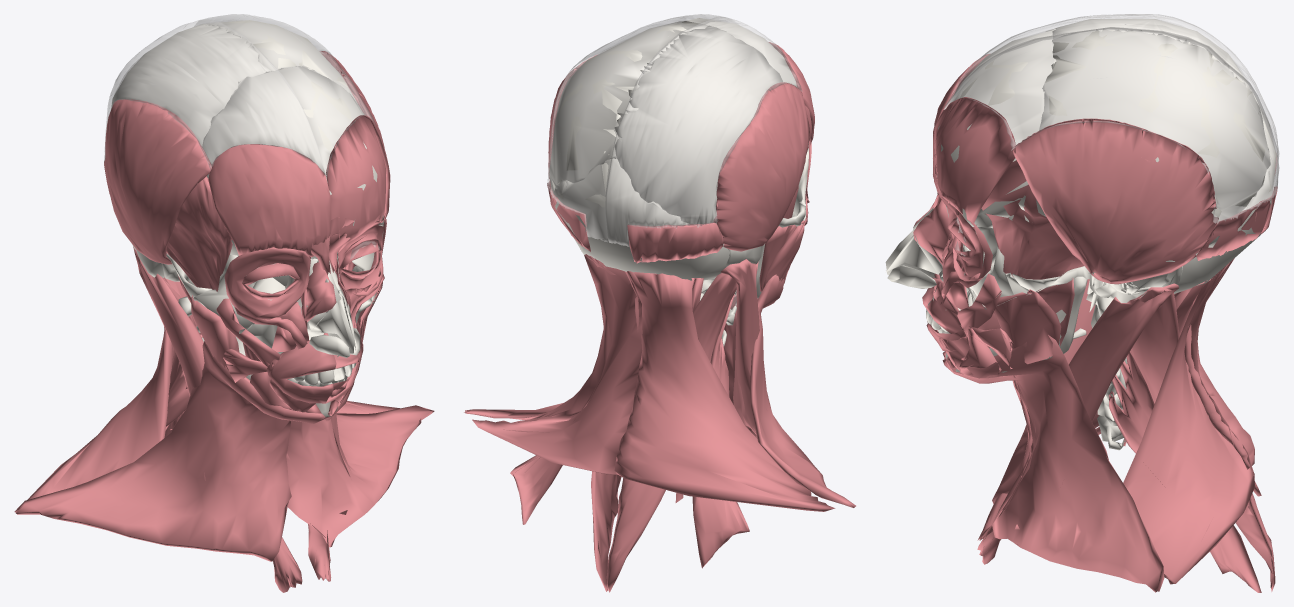
Rendered from z-anatomy-facial.glb.
3 renders of one model, left to right at view 1: azimuth 30°, elevation 25°; view 2: azimuth 150°, elevation 25°; view 3: azimuth 270°, elevation 25°, orthographic. The views are drawn at different scales.
Visible parts, largest first — view 1: Platysma_R, Ref_Epicranial_aponeurosis_R, Platysma_L, Temporoparietalis_R, Frontalis_R, Skull_Frontal_bone, Skull_Parietal_bone_R, Ref_Epicranial_aponeurosis_L, Trapezius_superior_R, Frontalis_L, Temporalis_R, Sternocleidomastoid_R (+22 smaller); view 2: Ref_Epicranial_aponeurosis_R, Trapezius_superior_R, Skull_Parietal_bone_R, Trapezius_superior_L, Ref_Epicranial_aponeurosis_L, Temporoparietalis_R, Skull_Parietal_bone_L, Skull_Occipital_bone, Platysma_R, Splenius_capitis_R, Sternocleidomastoid_R, Occipitalis_R (+11 smaller); view 3: Ref_Epicranial_aponeurosis_L, Temporoparietalis_L, Skull_Parietal_bone_L, Platysma_L, Trapezius_superior_L, Frontalis_L, Skull_Frontal_bone, Sternocleidomastoid_L, Temporalis_L, Ref_Epicranial_aponeurosis_R, Levator_scapulae_L, Splenius_capitis_L (+24 smaller).
Part boxes in pixels (bbox=[...]): Platysma_R: bbox=[14, 341, 325, 561]; Ref_Epicranial_aponeurosis_R: bbox=[104, 19, 325, 175]; Platysma_L: bbox=[286, 378, 434, 547]; Temporoparietalis_R: bbox=[105, 99, 211, 264]; Frontalis_R: bbox=[208, 144, 330, 257]; Skull_Frontal_bone: bbox=[202, 65, 383, 259]; Skull_Parietal_bone_R: bbox=[111, 22, 270, 146]; Ref_Epicranial_aponeurosis_L: bbox=[194, 14, 374, 176]; Trapezius_superior_R: bbox=[27, 278, 201, 499]; Frontalis_L: bbox=[326, 115, 390, 249]; Temporalis_R: bbox=[166, 176, 232, 291]; Sternocleidomastoid_R: bbox=[133, 246, 302, 592]; Ref_Epicranial_aponeurosis_R: bbox=[605, 17, 802, 246]; Trapezius_superior_R: bbox=[614, 271, 835, 511]; Skull_Parietal_bone_R: bbox=[614, 26, 782, 224]; Trapezius_superior_L: bbox=[472, 254, 642, 474]; Ref_Epicranial_aponeurosis_L: bbox=[547, 14, 738, 242]; Temporoparietalis_R: bbox=[713, 82, 809, 251]; Skull_Parietal_bone_L: bbox=[549, 21, 707, 193]; Skull_Occipital_bone: bbox=[554, 158, 729, 280]; Platysma_R: bbox=[724, 274, 855, 507]; Splenius_capitis_R: bbox=[606, 273, 736, 592]; Sternocleidomastoid_R: bbox=[720, 259, 767, 436]; Occipitalis_R: bbox=[627, 222, 723, 263]; Ref_Epicranial_aponeurosis_L: bbox=[944, 27, 1279, 224]; Temporoparietalis_L: bbox=[1012, 118, 1218, 284]; Skull_Parietal_bone_L: bbox=[1018, 29, 1270, 261]; Platysma_L: bbox=[942, 335, 1164, 592]; Trapezius_superior_L: bbox=[1123, 258, 1254, 584]; Frontalis_L: bbox=[933, 97, 1015, 222]; Skull_Frontal_bone: bbox=[937, 29, 1056, 228]; Sternocleidomastoid_L: bbox=[977, 283, 1178, 564]; Temporalis_L: bbox=[981, 159, 1150, 279]; Ref_Epicranial_aponeurosis_R: bbox=[944, 14, 1279, 186]; Levator_scapulae_L: bbox=[1109, 351, 1261, 592]; Splenius_capitis_L: bbox=[1130, 288, 1275, 591].
Bounding box in the file's own units: 0.2825 × 0.3499 × 0.2214.
